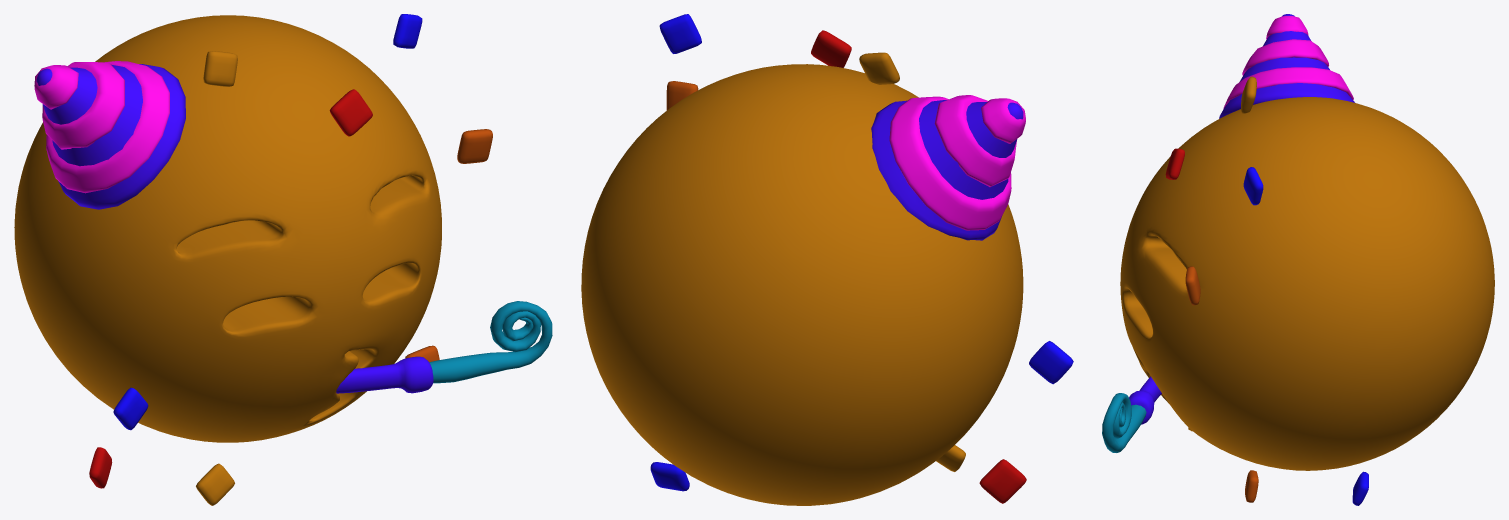
The model's file is party FBX.FBX.
The picture shows the model from 3 angles, left to right: view 1: azimuth 30°, elevation 25°; view 2: azimuth 150°, elevation 25°; view 3: azimuth 270°, elevation 25°; orthographic projection. The views are drawn at different scales.
Visible parts, largest first — view 1: party, Party4, Party5, Party3, Party2, Group1, Group8, Group7, Group3, Group4, ZBrush_defualt_group, Group5; view 2: party, Party4, Party5, Group5, Group4, ZBrush_defualt_group, Group1, Group8, Group2, Group7; view 3: party, Party4, Party5, Party3, Party2, ZBrush_defualt_group, Group7.
Part boxes in pixels (box(x1,y1,x2,y2)): party: box(14, 15, 441, 442); Party4: box(34, 61, 169, 193); Party5: box(36, 64, 185, 209); Party3: box(429, 301, 552, 383); Party2: box(336, 356, 433, 393); Group1: box(329, 89, 372, 136); Group8: box(203, 51, 237, 86); Group7: box(457, 129, 492, 163); Group3: box(196, 463, 234, 505); Group4: box(113, 387, 148, 430); ZBrush_defualt_group: box(393, 14, 422, 48); Group5: box(89, 447, 112, 488); party: box(581, 64, 1023, 505); Party4: box(889, 95, 1025, 230); Party5: box(871, 100, 1023, 240); Group5: box(979, 459, 1026, 503); Group4: box(1029, 341, 1073, 384); ZBrush_defualt_group: box(659, 14, 701, 53); Group1: box(811, 30, 851, 67); Group8: box(859, 52, 899, 84); Group2: box(650, 462, 689, 491); Group7: box(666, 81, 698, 110); party: box(1120, 97, 1494, 470); Party4: box(1223, 16, 1353, 108); Party5: box(1219, 14, 1354, 118); Party3: box(1102, 393, 1146, 452); Party2: box(1129, 376, 1161, 424); ZBrush_defualt_group: box(1243, 167, 1263, 205); Group7: box(1185, 266, 1200, 305).
Bounding box in the file's own units: 23.47 × 23.1 × 22.18.
